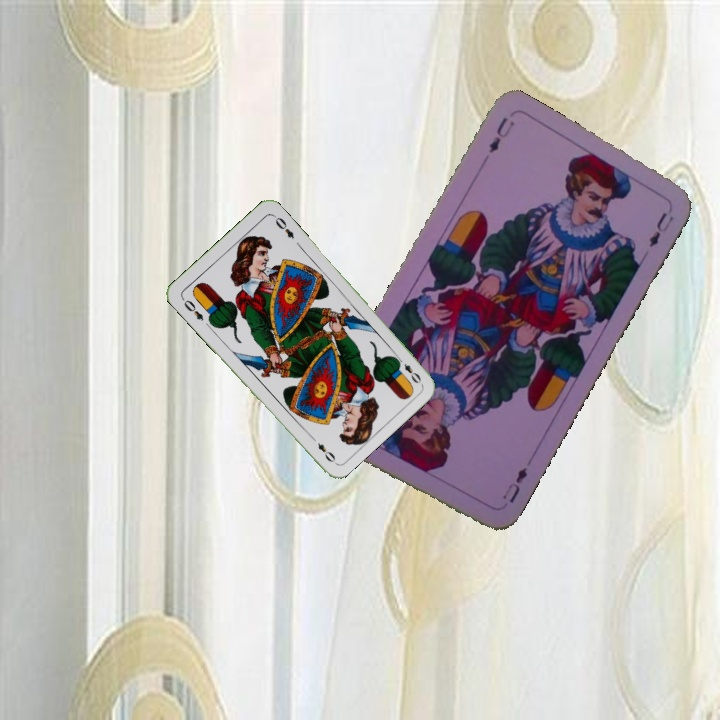EO: (393, 353, 424, 386), (178, 293, 206, 323)
EU: (484, 113, 517, 156), (498, 462, 530, 506)
